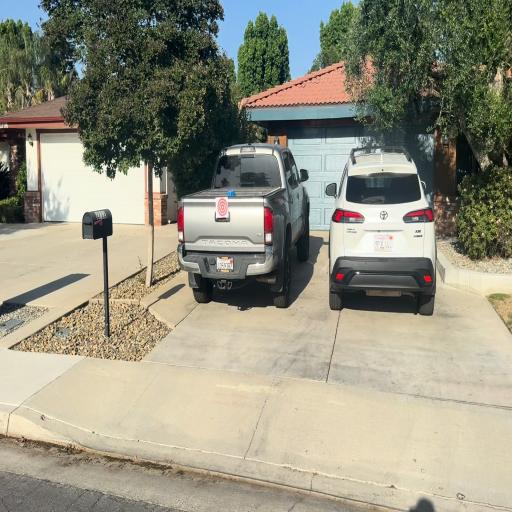bullseye: (217, 197, 228, 218)
